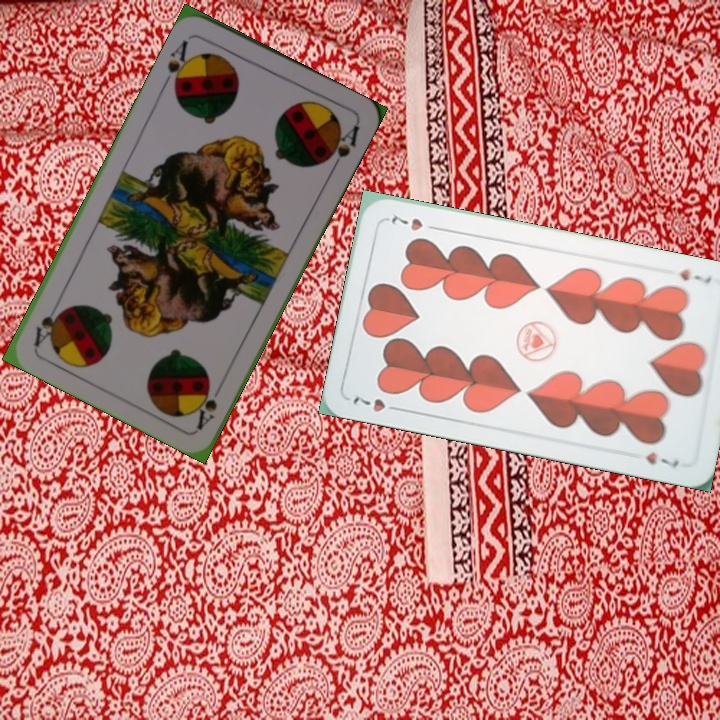H7: (348, 391, 405, 415), (675, 265, 714, 286)
SA: (159, 36, 196, 93), (192, 377, 227, 432)
